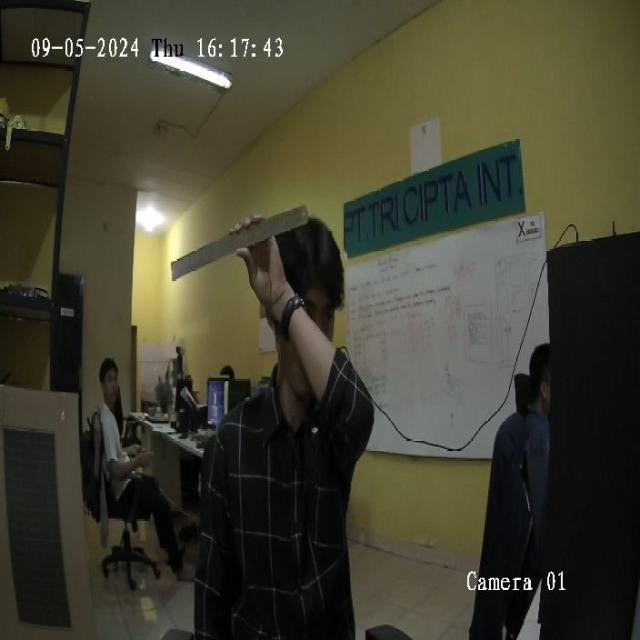Ruler: (172, 206, 309, 279)
